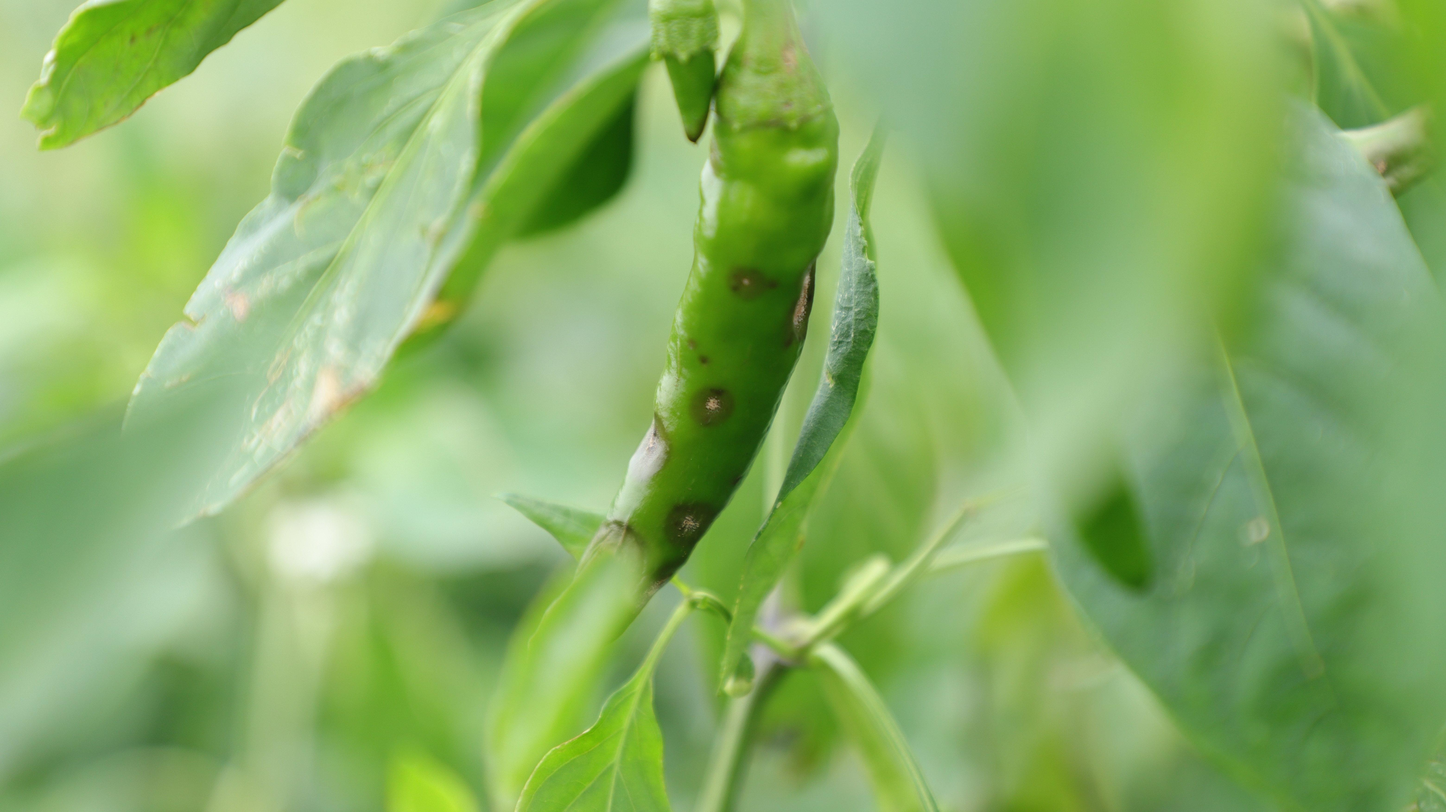Busuk Buah Antraknosa: (540, 33, 842, 705)
